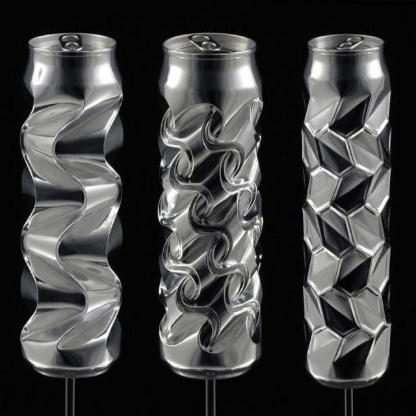Can: (150, 22, 274, 382), (16, 23, 132, 385), (299, 20, 399, 386)
